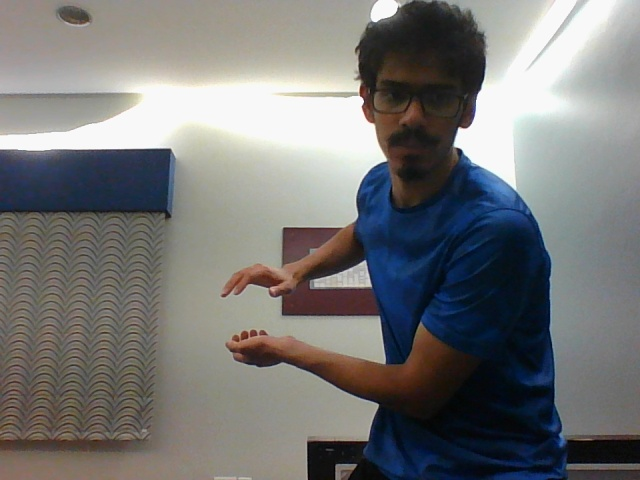charge: (216, 256, 311, 378)
